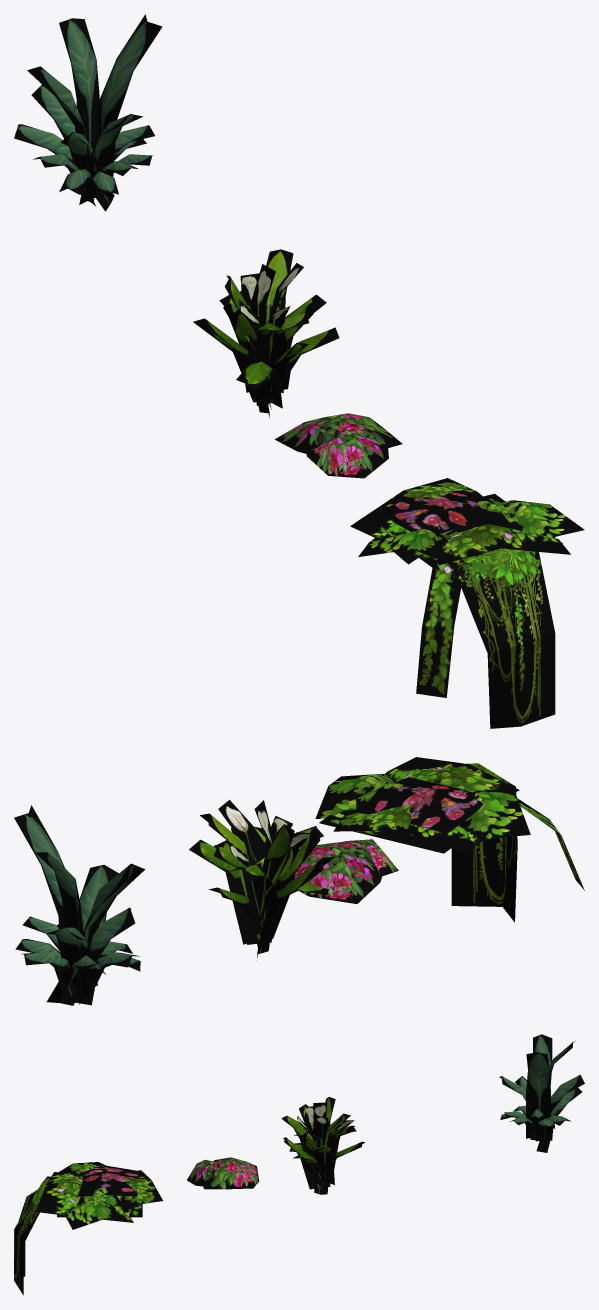
File: 2_Plant_LvZhi_01.FBX
3 renders of one model, top to bottom at view 1: azimuth 30°, elevation 25°; view 2: azimuth 150°, elevation 25°; view 3: azimuth 270°, elevation 25°, orthographic. The views are drawn at different scales.
Visible parts, largest first — view 1: 2_Plant_LvZhi_01, 2_Plant_LvZhi_08, 2_Plant_LvZhi_02, 2_Plant_LvZhi_04, 2_Plant_LvZhi_03, 2_Plant_LvZhi_09, 2_Plant_LvZhi_07, 2_Plant_LvZhi_05, 2_Plant_LvZhi_06; view 2: 2_Plant_LvZhi_01, 2_Plant_LvZhi_02, 2_Plant_LvZhi_04, 2_Plant_LvZhi_08, 2_Plant_LvZhi_03, 2_Plant_LvZhi_07, 2_Plant_LvZhi_05, 2_Plant_LvZhi_06, 2_Plant_LvZhi_09; view 3: 2_Plant_LvZhi_01, 2_Plant_LvZhi_02, 2_Plant_LvZhi_04, 2_Plant_LvZhi_03, 2_Plant_LvZhi_07, 2_Plant_LvZhi_08, 2_Plant_LvZhi_05, 2_Plant_LvZhi_06.
Boxes of the visible parts, box(x1,y1,x2,y2) form: 2_Plant_LvZhi_01: box(14, 14, 162, 211); 2_Plant_LvZhi_08: box(448, 548, 555, 728); 2_Plant_LvZhi_02: box(193, 249, 339, 417); 2_Plant_LvZhi_04: box(408, 493, 584, 567); 2_Plant_LvZhi_03: box(275, 413, 402, 478); 2_Plant_LvZhi_09: box(416, 559, 461, 697); 2_Plant_LvZhi_07: box(378, 490, 510, 534); 2_Plant_LvZhi_05: box(350, 478, 484, 564); 2_Plant_LvZhi_06: box(358, 529, 468, 570); 2_Plant_LvZhi_01: box(14, 805, 144, 1005); 2_Plant_LvZhi_02: box(189, 800, 334, 960); 2_Plant_LvZhi_04: box(315, 757, 519, 853); 2_Plant_LvZhi_08: box(451, 763, 517, 922); 2_Plant_LvZhi_03: box(288, 839, 398, 903); 2_Plant_LvZhi_07: box(360, 777, 483, 833); 2_Plant_LvZhi_05: box(333, 805, 479, 854); 2_Plant_LvZhi_06: box(459, 788, 530, 843); 2_Plant_LvZhi_09: box(518, 799, 584, 890); 2_Plant_LvZhi_01: box(499, 1034, 584, 1152); 2_Plant_LvZhi_02: box(281, 1097, 364, 1194); 2_Plant_LvZhi_04: box(35, 1172, 142, 1229); 2_Plant_LvZhi_03: box(187, 1157, 259, 1189); 2_Plant_LvZhi_07: box(77, 1166, 139, 1196); 2_Plant_LvZhi_08: box(14, 1176, 50, 1295); 2_Plant_LvZhi_05: box(119, 1170, 162, 1209); 2_Plant_LvZhi_06: box(50, 1162, 106, 1180).
Size of the model in its own units: 331 by 599 by 1268.
1 material, 1 textured.
